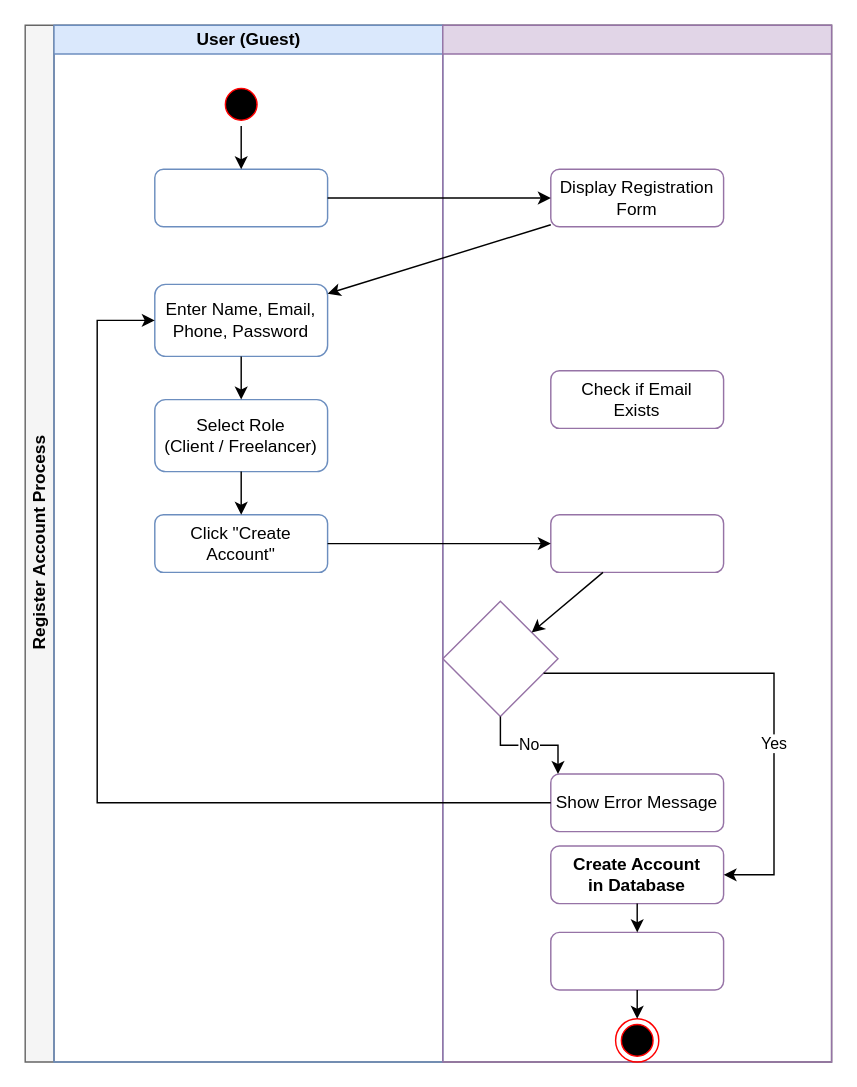
Some shapes in this 857 by 1087 pixel diagram are drawn without their labels. Each missing label, with the box of its shape:
Click "Sign Up": (153, 168, 328, 227)
Redirect to Login/Dashboard: (549, 931, 724, 990)
System: (441, 24, 832, 1062)
Valid?: (441, 600, 558, 716)
Validate Inputs: (549, 513, 724, 572)
